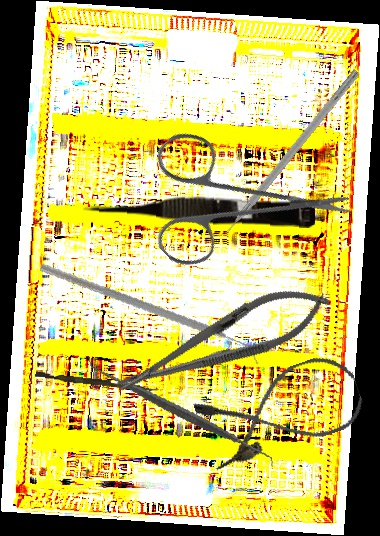Cannula: (191, 347, 370, 474)
Chopper: (38, 227, 260, 404), (203, 61, 361, 249)
Iris Scissors: (109, 77, 357, 324)
Micro Scissor: (82, 189, 316, 229)
Needle Holder: (106, 270, 339, 412)
Pusher: (34, 371, 160, 393)
Spatula Surgical: (87, 321, 274, 502)
